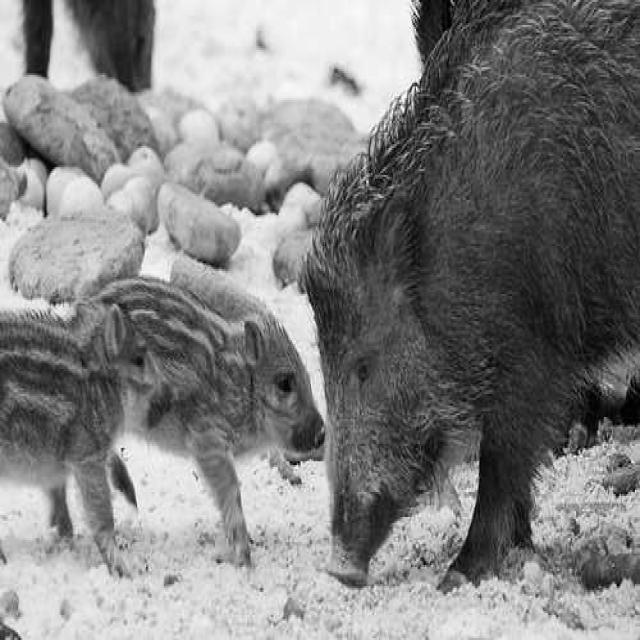boar: (305, 0, 637, 584), (79, 277, 325, 562), (0, 301, 184, 582)
